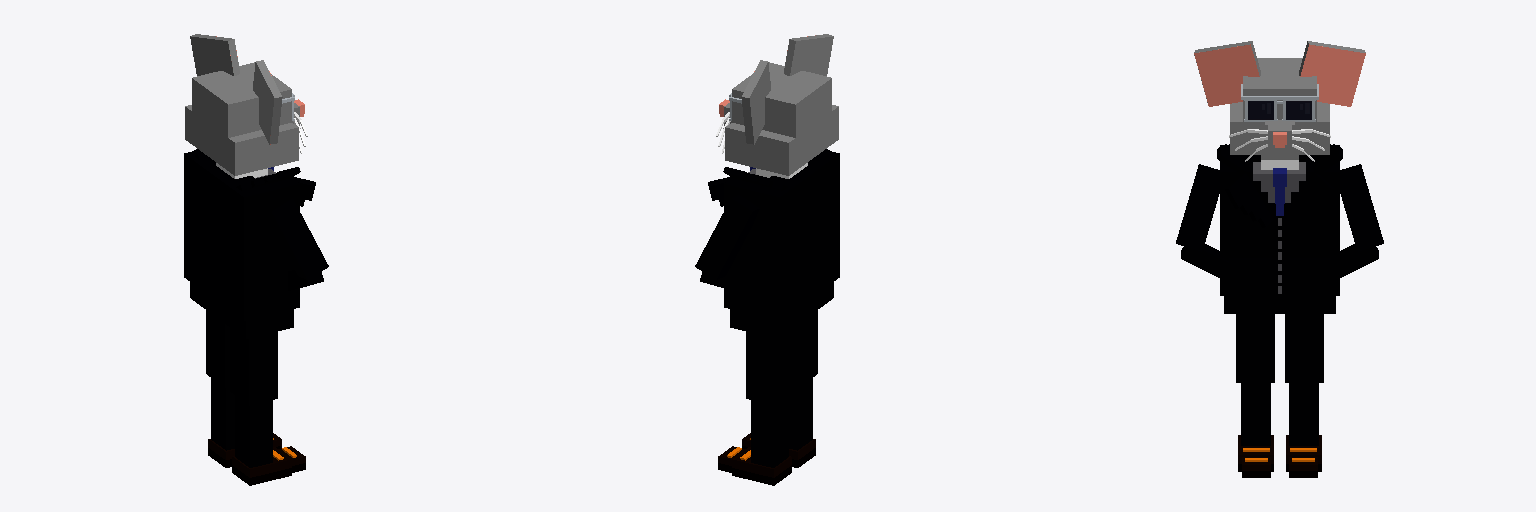
3 views of the same model, side by side, from view 1: azimuth 30°, elevation 25°; view 2: azimuth 150°, elevation 25°; view 3: azimuth 270°, elevation 25° (orthographic).
Visible parts, largest first — view 1: Cube0301, Cube0011, Cube0051, Cube0061; view 2: Cube0301, Cube0011, Cube0051, Cube0061; view 3: Cube0301, Cube0011, Cube0051, Cube0021, Cube0031.
Boxes of the visible parts, box(x1,y1,x2,y2) form: Cube0301: box(184, 149, 328, 467); Cube0011: box(185, 34, 307, 178); Cube0051: box(208, 433, 305, 477); Cube0061: box(208, 446, 305, 485); Cube0301: box(695, 149, 839, 467); Cube0011: box(716, 34, 838, 178); Cube0051: box(718, 433, 815, 477); Cube0061: box(718, 446, 815, 485); Cube0301: box(1176, 144, 1383, 445); Cube0011: box(1194, 41, 1365, 169); Cube0051: box(1238, 435, 1321, 470); Cube0021: box(1253, 162, 1305, 293); Cube0031: box(1273, 168, 1286, 215).
Bounding box in the file's own units: 1.47 × 6.37 × 2.9.
7 materials, 1 textured.